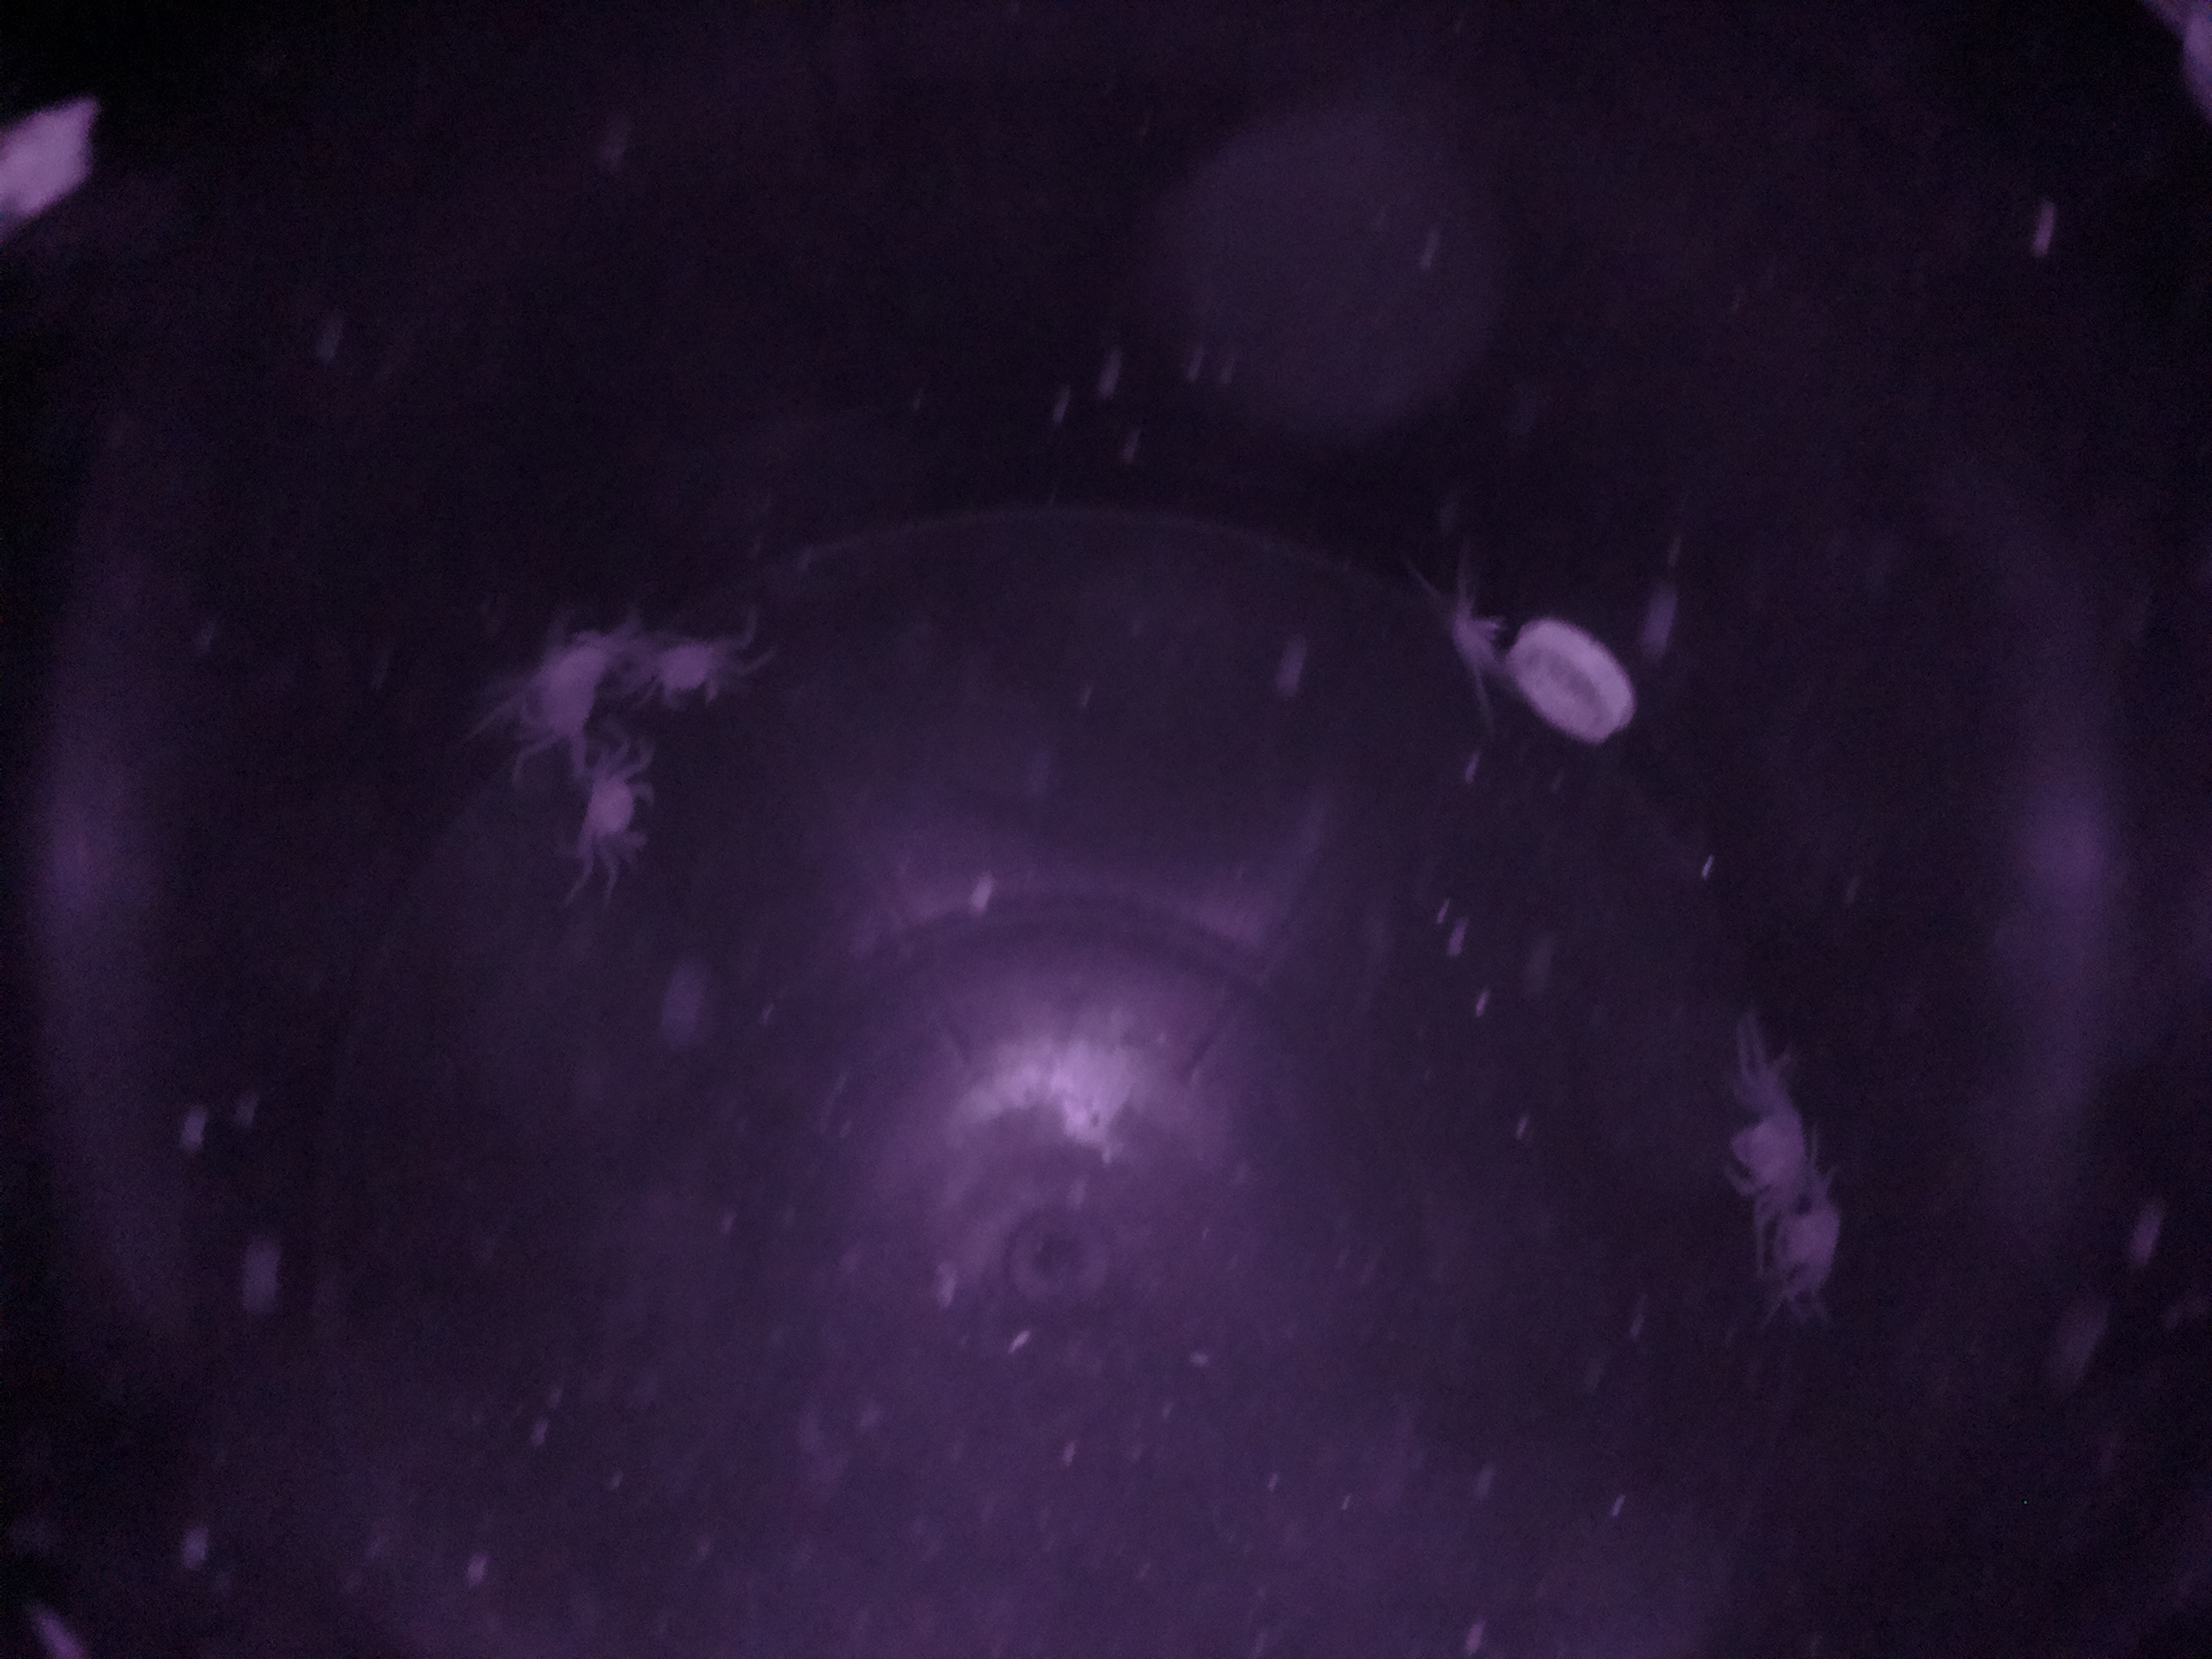Crab: (559, 755, 674, 871), (637, 615, 742, 728)
